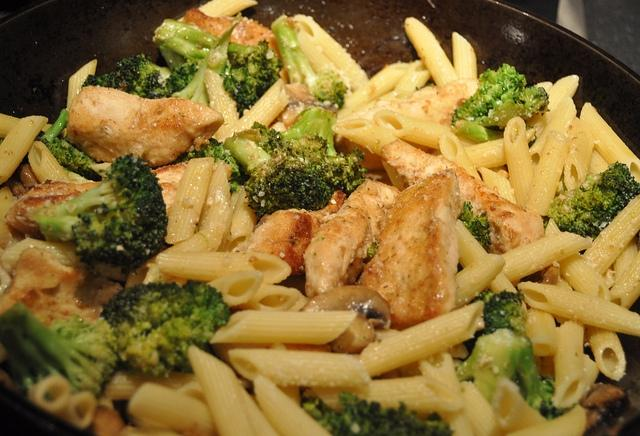broccoli: (36, 154, 176, 277), (100, 280, 232, 379), (154, 18, 282, 114), (0, 301, 119, 396), (456, 328, 565, 420), (266, 108, 367, 198), (271, 15, 349, 108), (548, 160, 640, 238), (302, 392, 455, 436), (452, 62, 550, 130), (172, 12, 242, 107), (83, 52, 175, 98), (174, 138, 242, 192), (36, 138, 101, 182), (478, 289, 528, 336), (458, 201, 492, 254)
